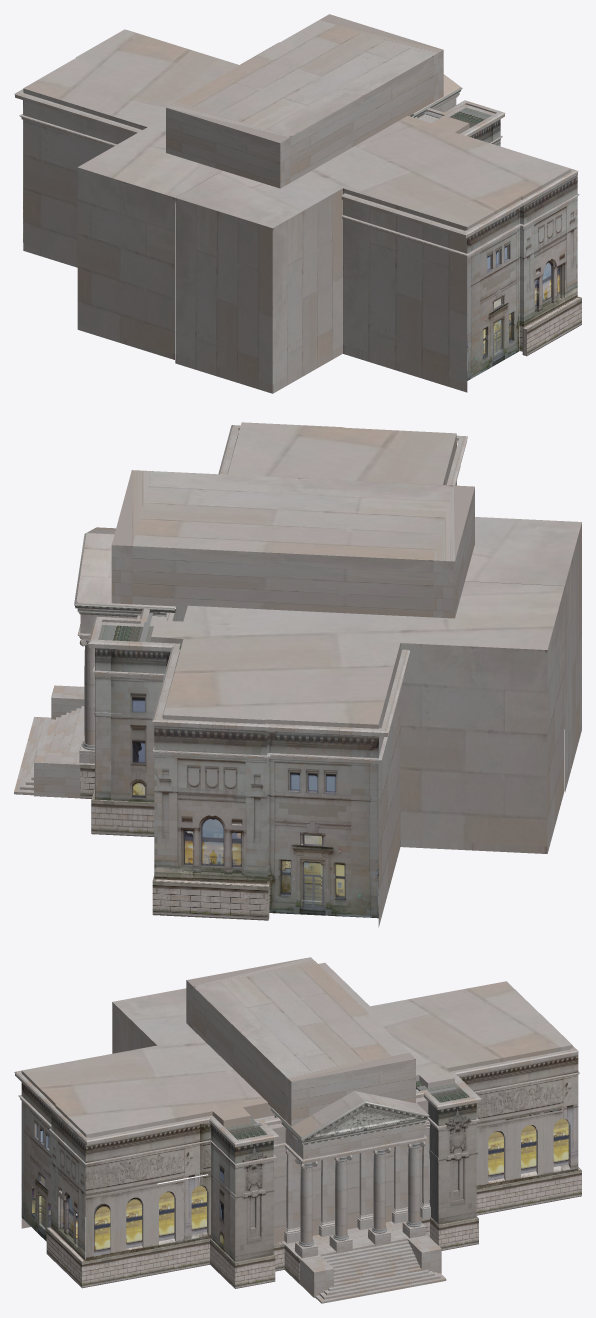
File: NEW_Haus_der_Jugend_B.FBX
3 renders of one model, top to bottom at view 1: azimuth 30°, elevation 25°; view 2: azimuth 150°, elevation 25°; view 3: azimuth 270°, elevation 25°, orthographic. The views are drawn at different scales.
Parts seen in each view (by area): view 1: Line280, Box1142, Plane104, Line279, ChamferBox049, Line278, ChamferBox050; view 2: Line280, Box1142, Plane104, ChamferBox050, Line279, ChamferBox049, ChamferBox027, NEW_Haus_der_Jugend_A, ChamferBox051, Line278, StraightStair003, StraightStair004 (+2 smaller); view 3: Line280, Box1142, Box1163, Circle003, Front001, Plane104, ChamferBox049, ChamferBox047, Line279, ChamferBox050, NEW_Haus_der_Jugend_A, Box1167 (+17 smaller).
Boxes of the visible parts, x1=… form: Line280: x1=23, y1=29, x2=570, y2=393; Box1142: x1=166, y1=14, x2=443, y2=188; Plane104: x1=23, y1=100, x2=577, y2=380; Line279: x1=14, y1=30, x2=578, y2=238; ChamferBox049: x1=522, y1=296, x2=581, y2=356; Line278: x1=19, y1=114, x2=579, y2=258; ChamferBox050: x1=449, y1=107, x2=500, y2=146; Line280: x1=151, y1=422, x2=581, y2=927; Box1142: x1=111, y1=470, x2=474, y2=618; Plane104: x1=154, y1=433, x2=456, y2=918; ChamferBox050: x1=94, y1=625, x2=181, y2=802; Line279: x1=78, y1=425, x2=467, y2=736; ChamferBox049: x1=152, y1=875, x2=269, y2=920; ChamferBox027: x1=34, y1=685, x2=94, y2=798; NEW_Haus_der_Jugend_A: x1=76, y1=527, x2=175, y2=764; ChamferBox051: x1=91, y1=787, x2=154, y2=836; Line278: x1=77, y1=466, x2=460, y2=763; StraightStair003: x1=44, y1=706, x2=84, y2=752; StraightStair004: x1=14, y1=717, x2=51, y2=795; Line280: x1=21, y1=962, x2=572, y2=1228; Box1142: x1=186, y1=957, x2=415, y2=1126; Box1163: x1=85, y1=1052, x2=578, y2=1196; Circle003: x1=86, y1=1107, x2=578, y2=1260; Front001: x1=235, y1=1103, x2=477, y2=1261; Plane104: x1=21, y1=1082, x2=578, y2=1260; ChamferBox049: x1=46, y1=1167, x2=581, y2=1288; ChamferBox047: x1=254, y1=1089, x2=428, y2=1242; Line279: x1=14, y1=981, x2=578, y2=1147; ChamferBox050: x1=208, y1=1081, x2=476, y2=1261; NEW_Haus_der_Jugend_A: x1=271, y1=1087, x2=445, y2=1258; Box1167: x1=93, y1=1185, x2=206, y2=1256.
Bounding box in the file's own units: 4115 × 2020 × 5159.
Materials: 12 (9 with a texture image).
